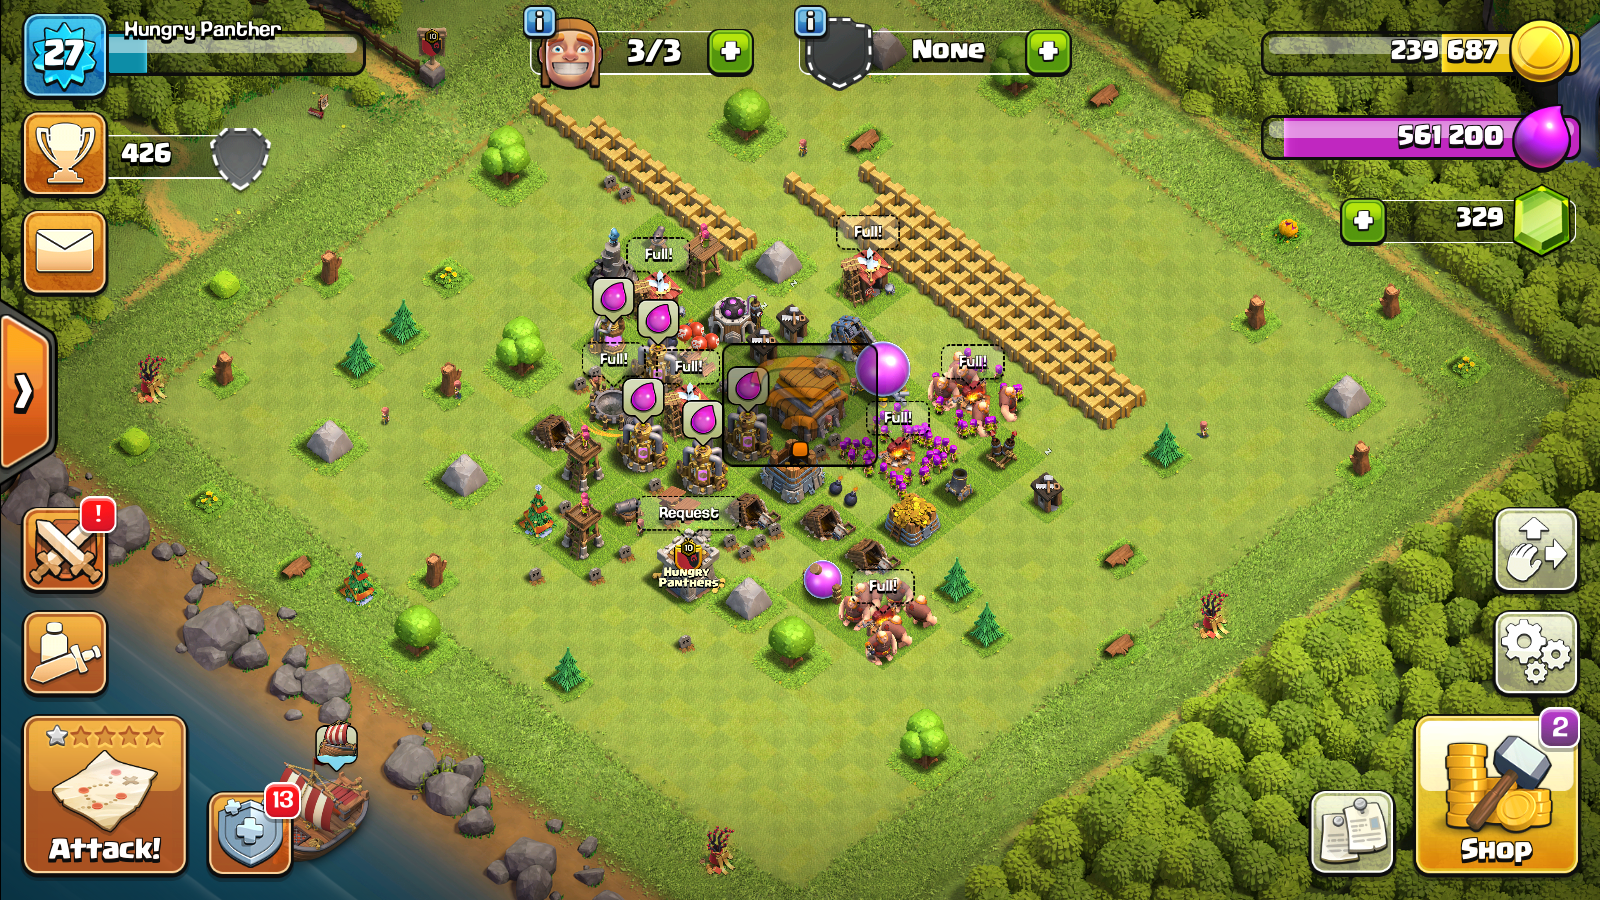low_signal: (721, 342, 873, 466)
